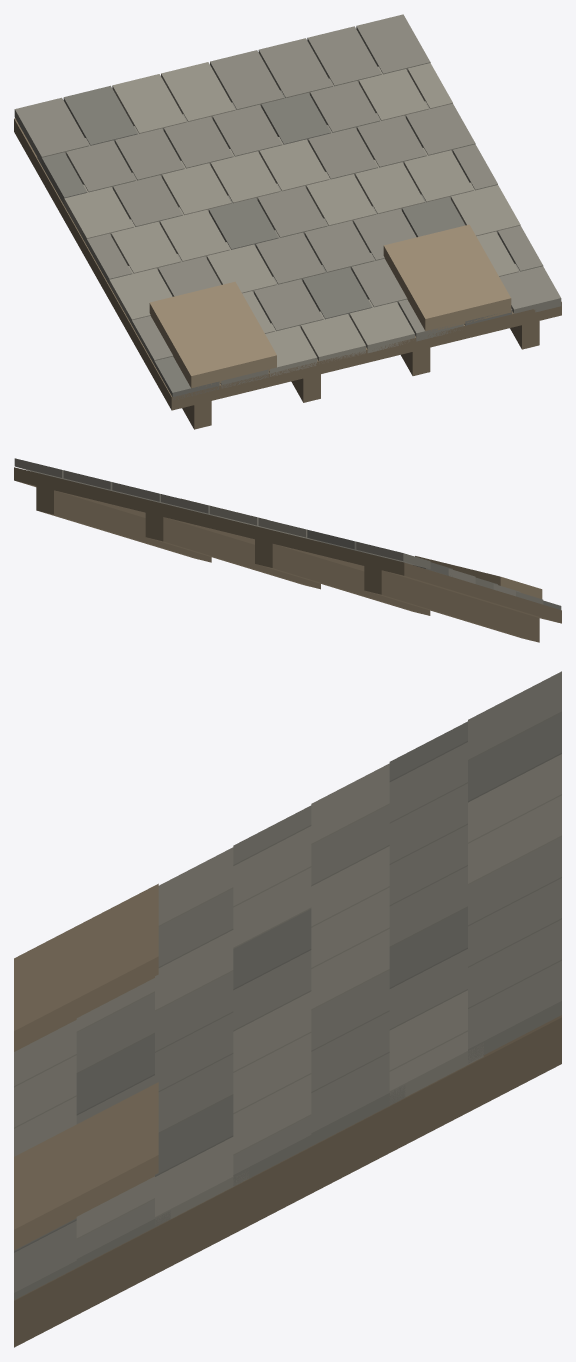
File: env_roof_shingle_fine_b_v04_eave_repairs.glb
The picture shows the model from 3 angles, top to bottom: view 1: azimuth 30°, elevation 25°; view 2: azimuth 150°, elevation 25°; view 3: azimuth 270°, elevation 25°; orthographic projection. The views are drawn at different scales.
Parts seen in each view (by area): view 1: material_4, material_5, material_3, material_6, material_2; view 2: material_2, material_4, material_5, material_3, material_6; view 3: material_4, material_5, material_3, material_2, material_6.
Boxes of the visible parts, x1,y1,x2,y2 form: material_4: [14, 14, 561, 388]; material_5: [60, 62, 520, 376]; material_3: [149, 224, 511, 388]; material_6: [37, 85, 512, 399]; material_2: [14, 118, 561, 429]; material_2: [14, 467, 561, 642]; material_4: [14, 458, 543, 604]; material_5: [210, 506, 520, 596]; material_3: [181, 498, 542, 598]; material_6: [307, 529, 561, 609]; material_4: [14, 671, 561, 1300]; material_5: [14, 754, 561, 1239]; material_3: [14, 883, 158, 1250]; material_2: [14, 1015, 561, 1347]; material_6: [14, 713, 561, 1252].
Size of the model in its own units: 2 by 1.03 by 1.4.
